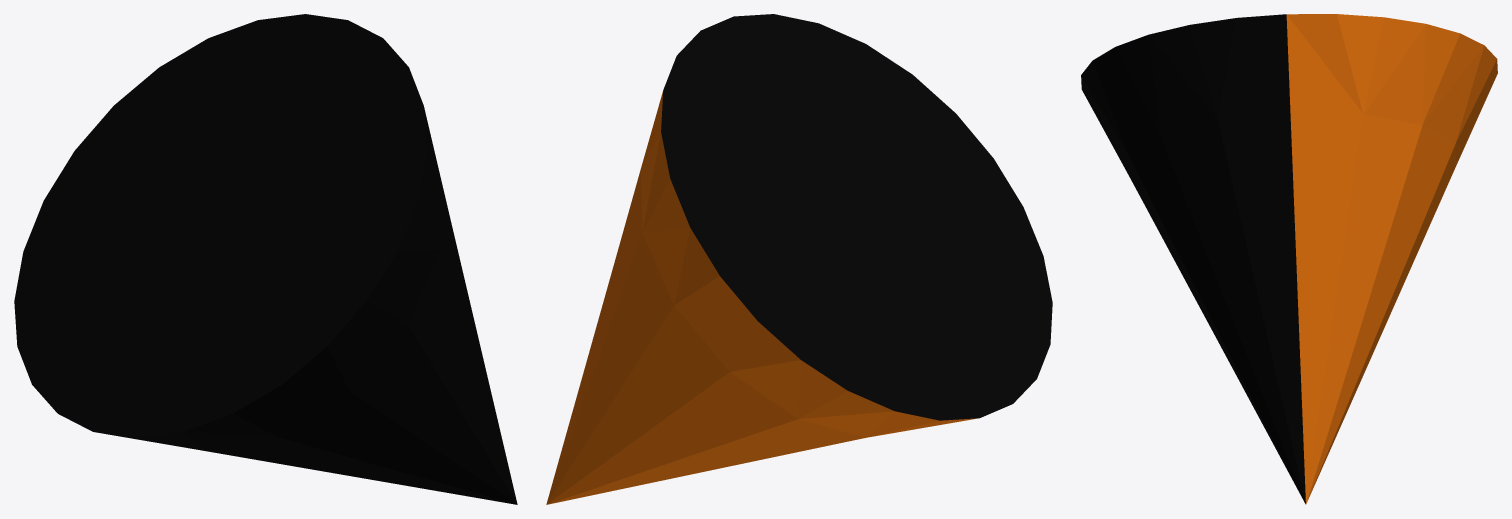
Rendered from 19_CERAMICO_P6mm-D5mm.obj.
3 renders of one model, left to right at view 1: azimuth 30°, elevation 25°; view 2: azimuth 150°, elevation 25°; view 3: azimuth 270°, elevation 25°, orthographic. The views are drawn at different scales.
Parts seen in each view (by area): view 1: 19_CERAMICO_P6mm-D5mm; view 2: 19_CERAMICO_P6mm-D5mm; view 3: 19_CERAMICO_P6mm-D5mm.
Part boxes in pixels (x1,y1,x2,y2): 19_CERAMICO_P6mm-D5mm: [14, 14, 517, 504]; 19_CERAMICO_P6mm-D5mm: [546, 14, 1052, 504]; 19_CERAMICO_P6mm-D5mm: [1081, 14, 1497, 504].
Bounding box in the file's own units: 0.0235 × 0.0245 × 0.0215.
